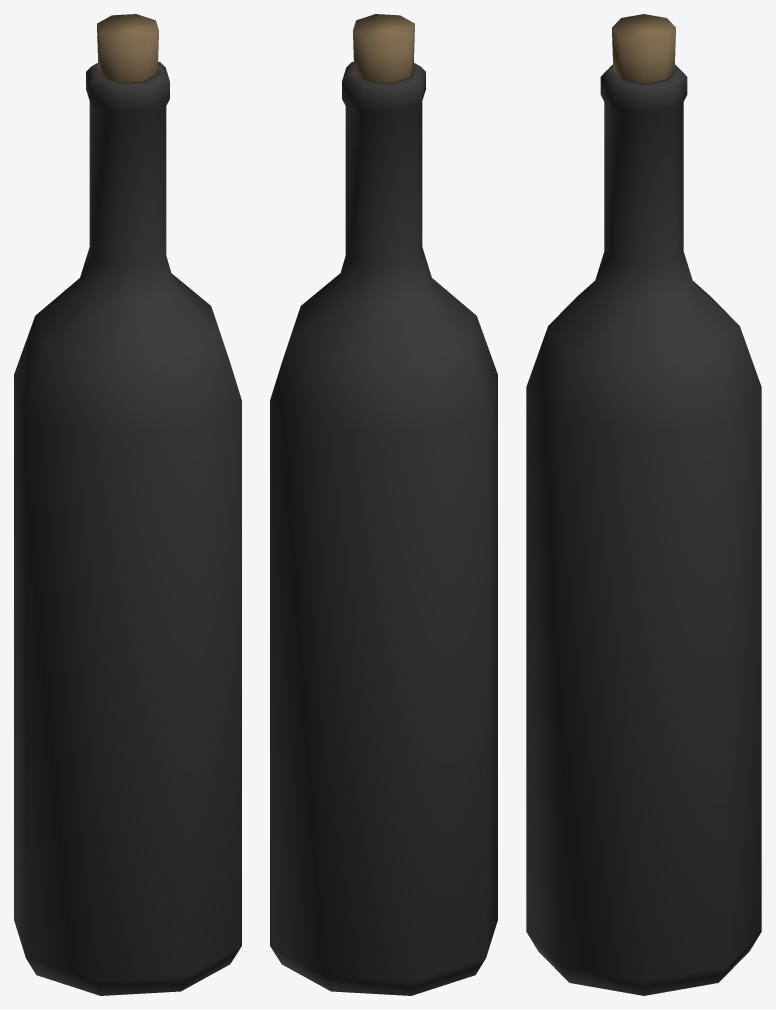
File: wine_bottle.glb
3 views of the same model, side by side, from view 1: azimuth 30°, elevation 25°; view 2: azimuth 150°, elevation 25°; view 3: azimuth 270°, elevation 25° (orthographic).
Parts seen in each view (by area): view 1: wine_bottle; view 2: wine_bottle; view 3: wine_bottle.
Part boxes in pixels (bbox=[...]): wine_bottle: bbox=[14, 14, 241, 995]; wine_bottle: bbox=[270, 14, 497, 995]; wine_bottle: bbox=[526, 14, 761, 995].
Bounding box in the file's own units: 0.0716 × 0.31 × 0.0716.
